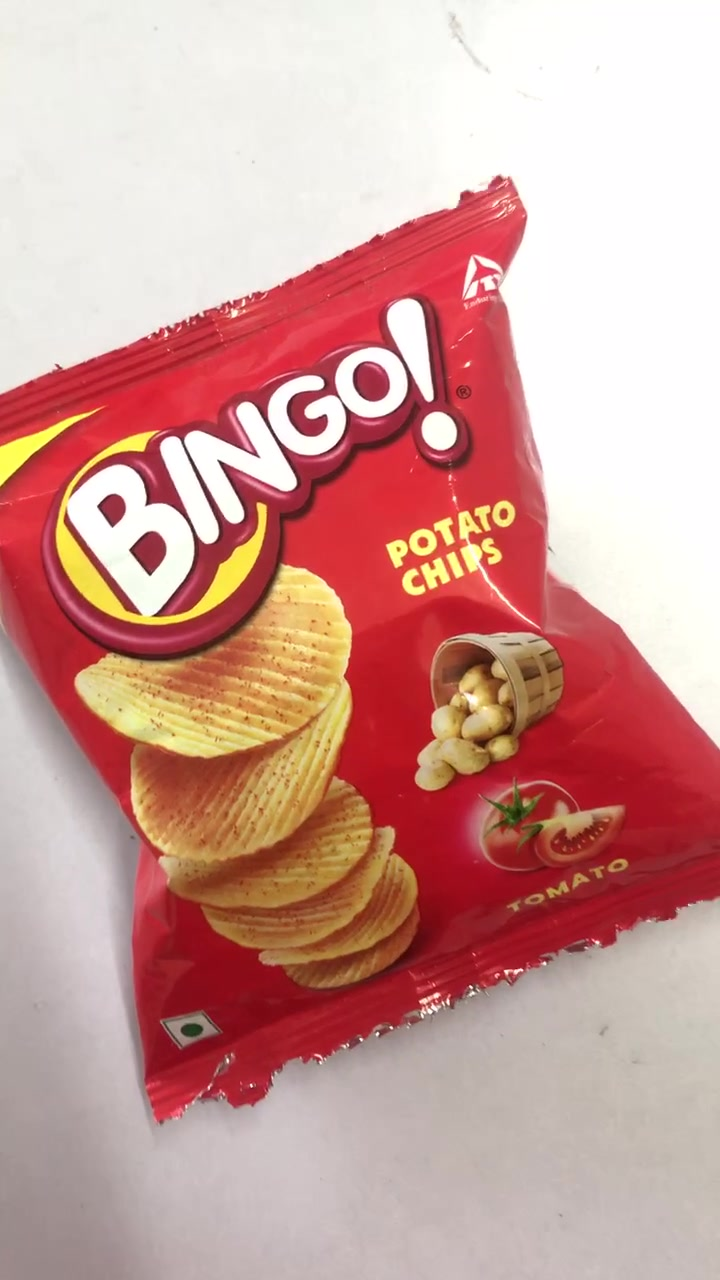Bingo: (1, 217, 720, 1075)
